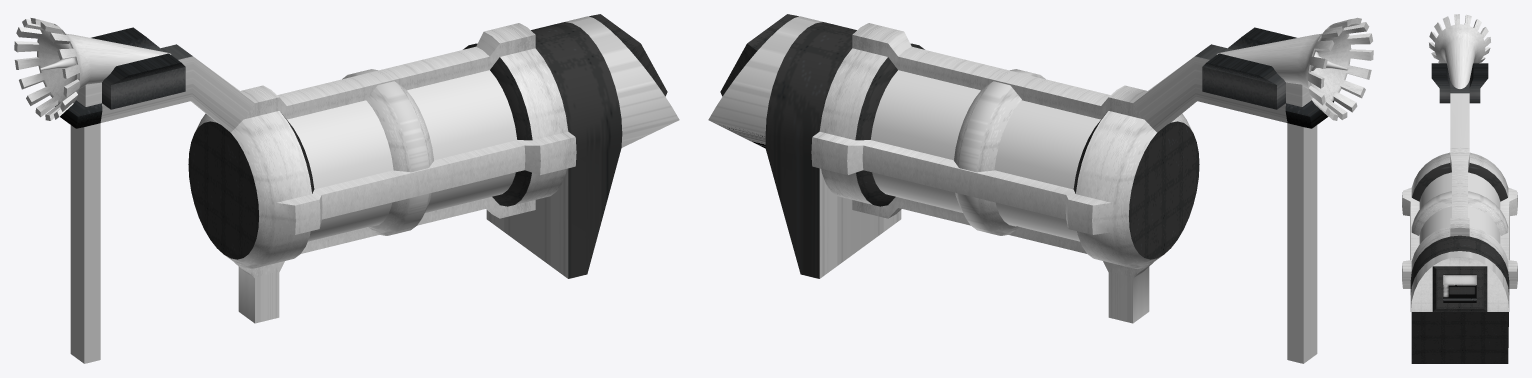
File: Gun.fbx
3 renders of one model, left to right at view 1: azimuth 30°, elevation 25°; view 2: azimuth 150°, elevation 25°; view 3: azimuth 270°, elevation 25°, orthographic. The views are drawn at different scales.
Visible parts, largest first — view 1: Tube, Glass; view 2: Tube, Glass; view 3: Tube, Glass, Screen.
Boxes of the visible parts, <box> form: Tube: <box>14,14,679,363</box>; Glass: <box>287,70,517,241</box>; Tube: <box>708,14,1373,363</box>; Glass: <box>870,70,1100,241</box>; Tube: <box>1402,14,1517,363</box>; Glass: <box>1419,172,1500,243</box>; Screen: <box>1443,274,1476,302</box>.
Size of the model in its own units: 534 by 291 by 150.
